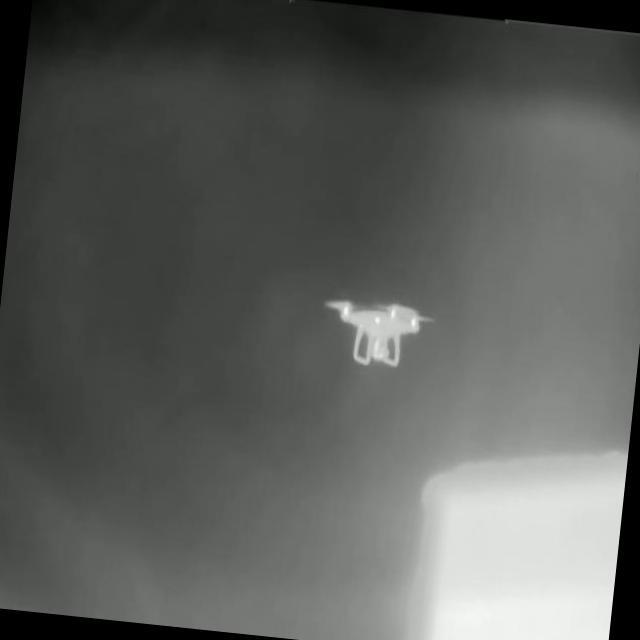DRONE: (323, 295, 438, 368)
